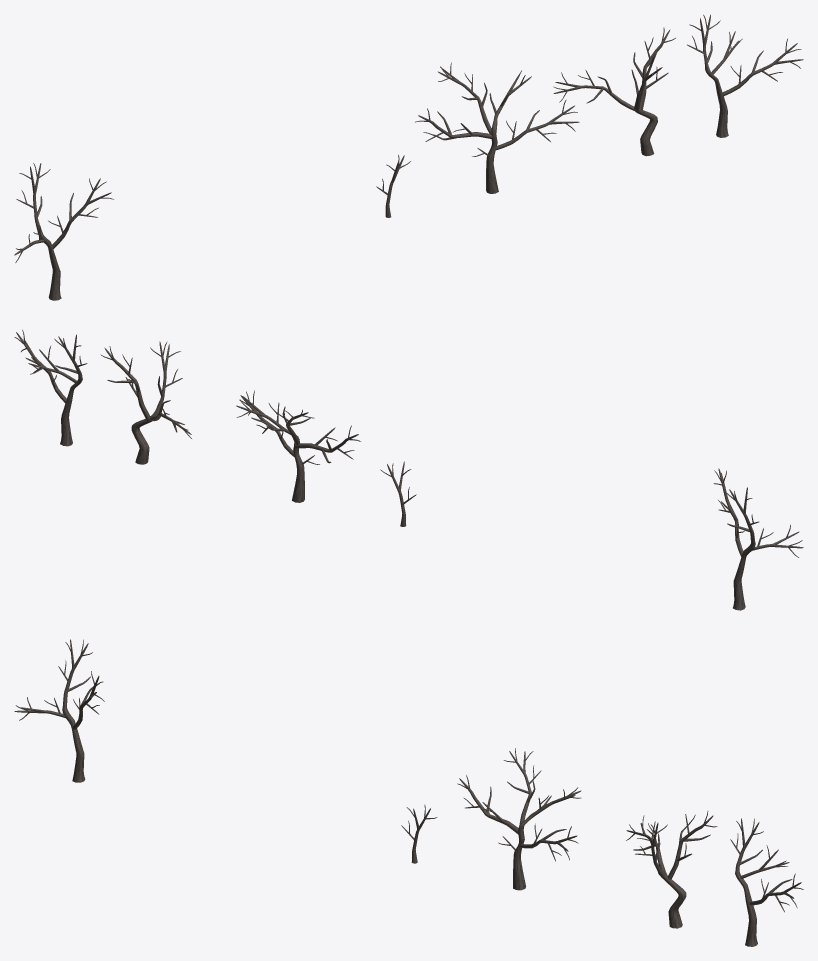
The model's file is dead-tree2.glb.
3 renders of one model, top to bottom at view 1: azimuth 30°, elevation 25°; view 2: azimuth 150°, elevation 25°; view 3: azimuth 330°, elevation 25°, orthographic.
Parts seen in each view (by area): view 1: DeadTree_8, DeadTree_7, DeadTree_6, DeadTree_10; view 2: DeadTree_8, DeadTree_7, DeadTree_10, DeadTree_6; view 3: DeadTree_8, DeadTree_7, DeadTree_10, DeadTree_6.
Part boxes in pixels (<box>): DeadTree_8: <box>415,62,579,193</box>; DeadTree_7: <box>553,27,675,156</box>; DeadTree_6: <box>687,14,803,137</box>; DeadTree_10: <box>14,163,113,300</box>; DeadTree_8: <box>236,390,360,502</box>; DeadTree_7: <box>100,341,191,464</box>; DeadTree_10: <box>713,468,803,610</box>; DeadTree_6: <box>14,329,87,446</box>; DeadTree_8: <box>457,748,581,890</box>; DeadTree_7: <box>626,811,717,928</box>; DeadTree_10: <box>14,639,104,782</box>; DeadTree_6: <box>730,818,803,946</box>.
Size of the model in its own units: 45.04 by 7.13 by 5.03.
1 material, 1 textured.
